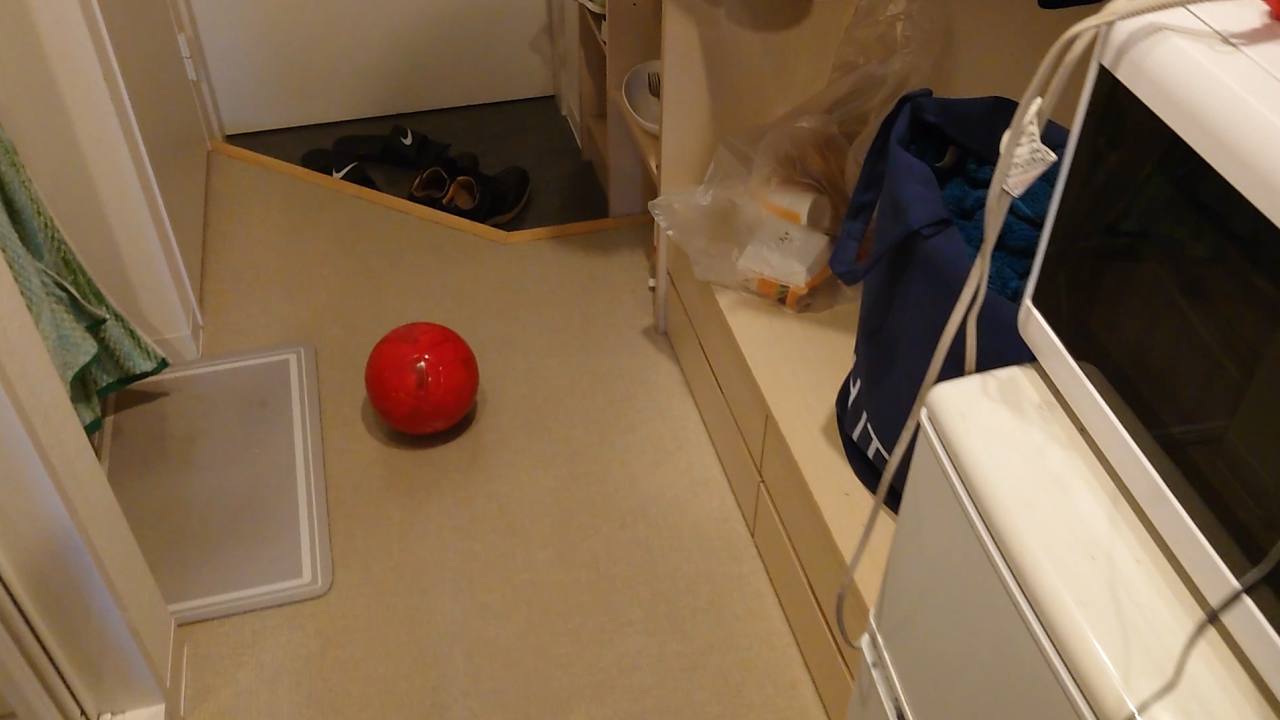red: (360, 320, 480, 438)
